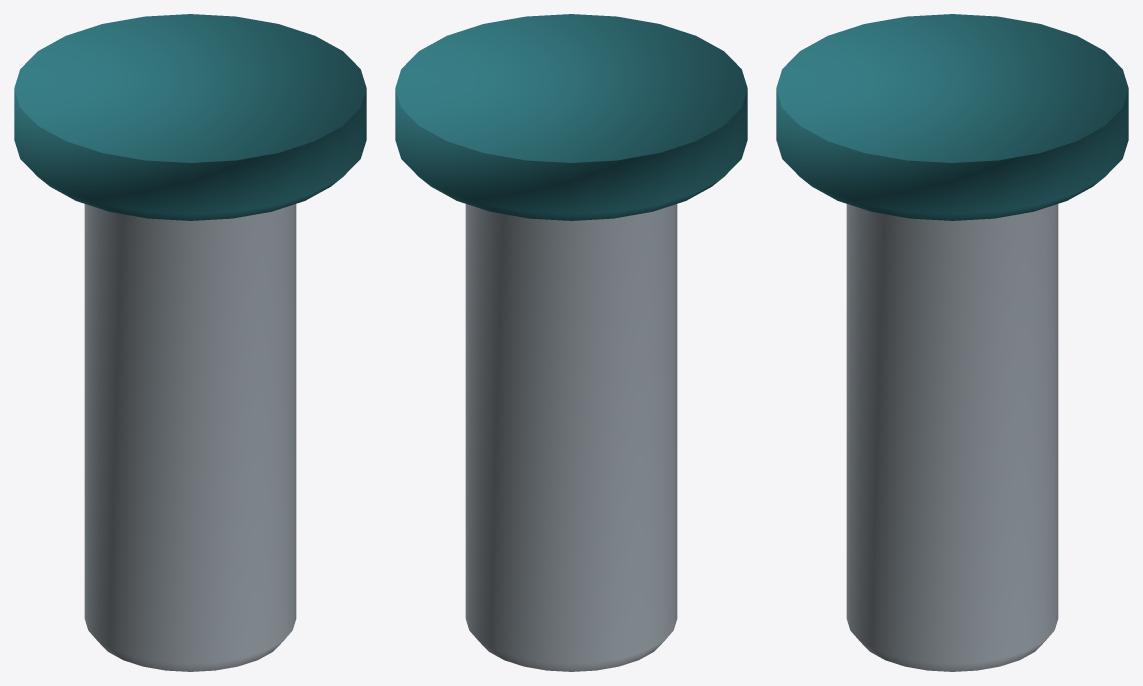
File: VLAB_pins.fbx
3 views of the same model, side by side, from view 1: azimuth 30°, elevation 25°; view 2: azimuth 150°, elevation 25°; view 3: azimuth 270°, elevation 25° (orthographic).
Parts seen in each view (by area): view 1: VLAB_pins_Pin_VIS, VLAB_pins_Cap_VIS; view 2: VLAB_pins_Pin_VIS, VLAB_pins_Cap_VIS; view 3: VLAB_pins_Pin_VIS, VLAB_pins_Cap_VIS.
Part boxes in pixels (x1,y1,x2,y2): VLAB_pins_Pin_VIS: (84,204,296,671); VLAB_pins_Cap_VIS: (14,14,366,220); VLAB_pins_Pin_VIS: (465,204,677,671); VLAB_pins_Cap_VIS: (395,14,747,220); VLAB_pins_Pin_VIS: (846,204,1058,671); VLAB_pins_Cap_VIS: (776,14,1128,220).
Size of the model in its own units: 0.01 by 0.017 by 0.01.
